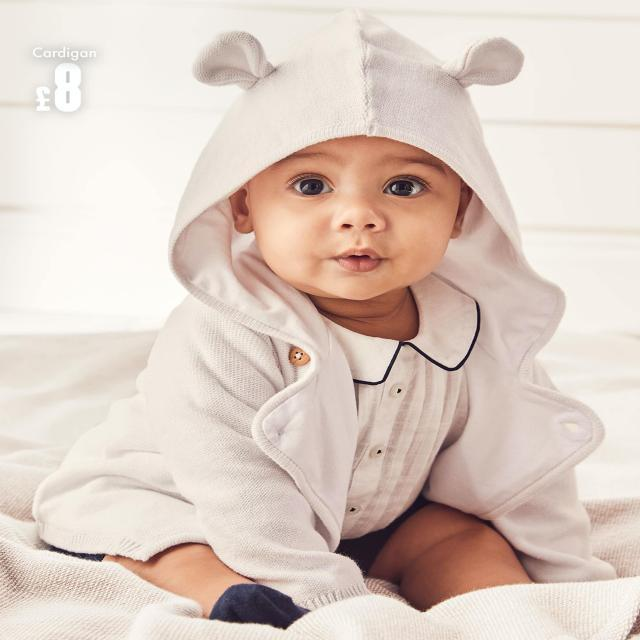non-dog: (31, 14, 619, 624)
